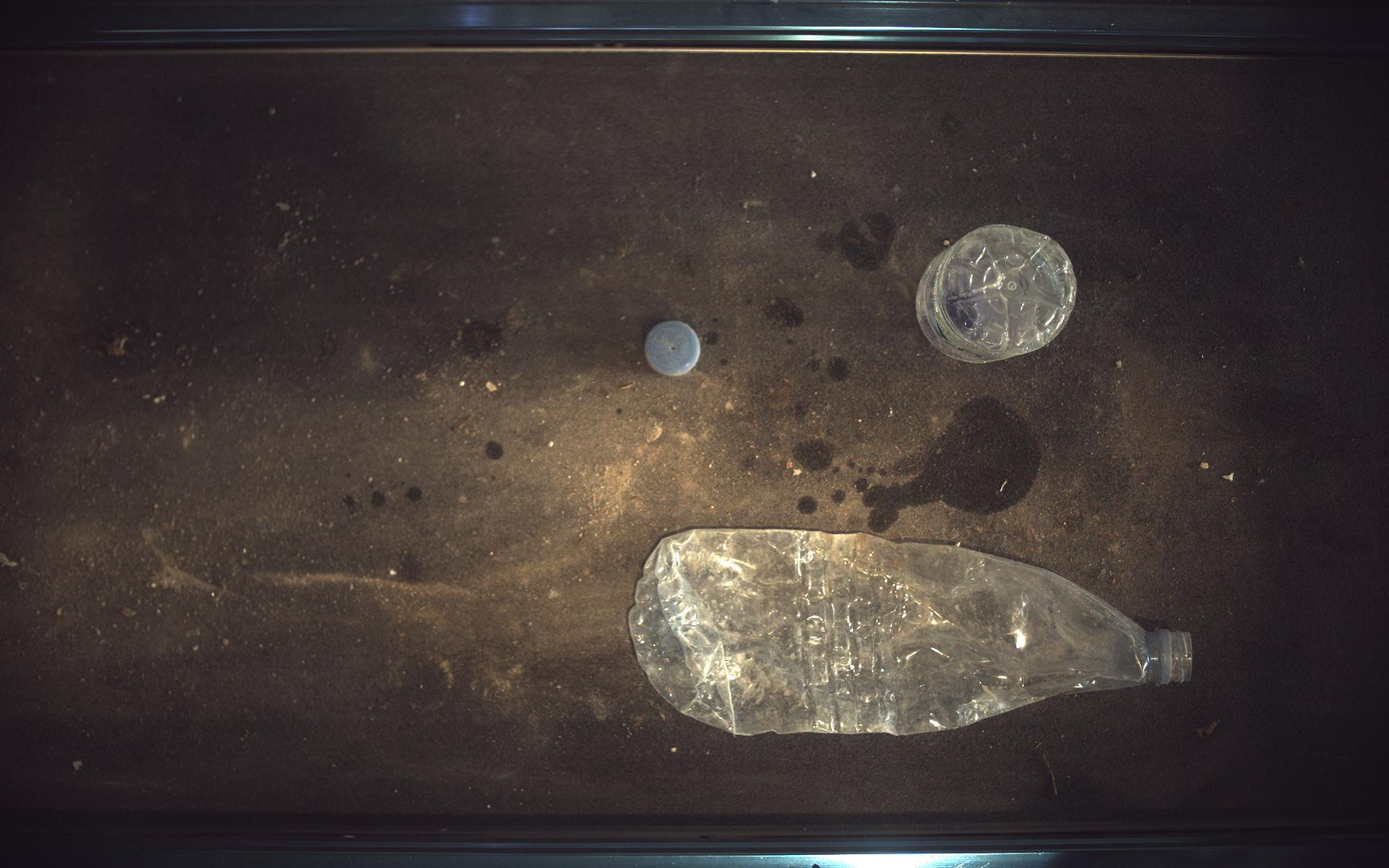general_w: (629, 529, 1194, 736), (918, 224, 1079, 363)
